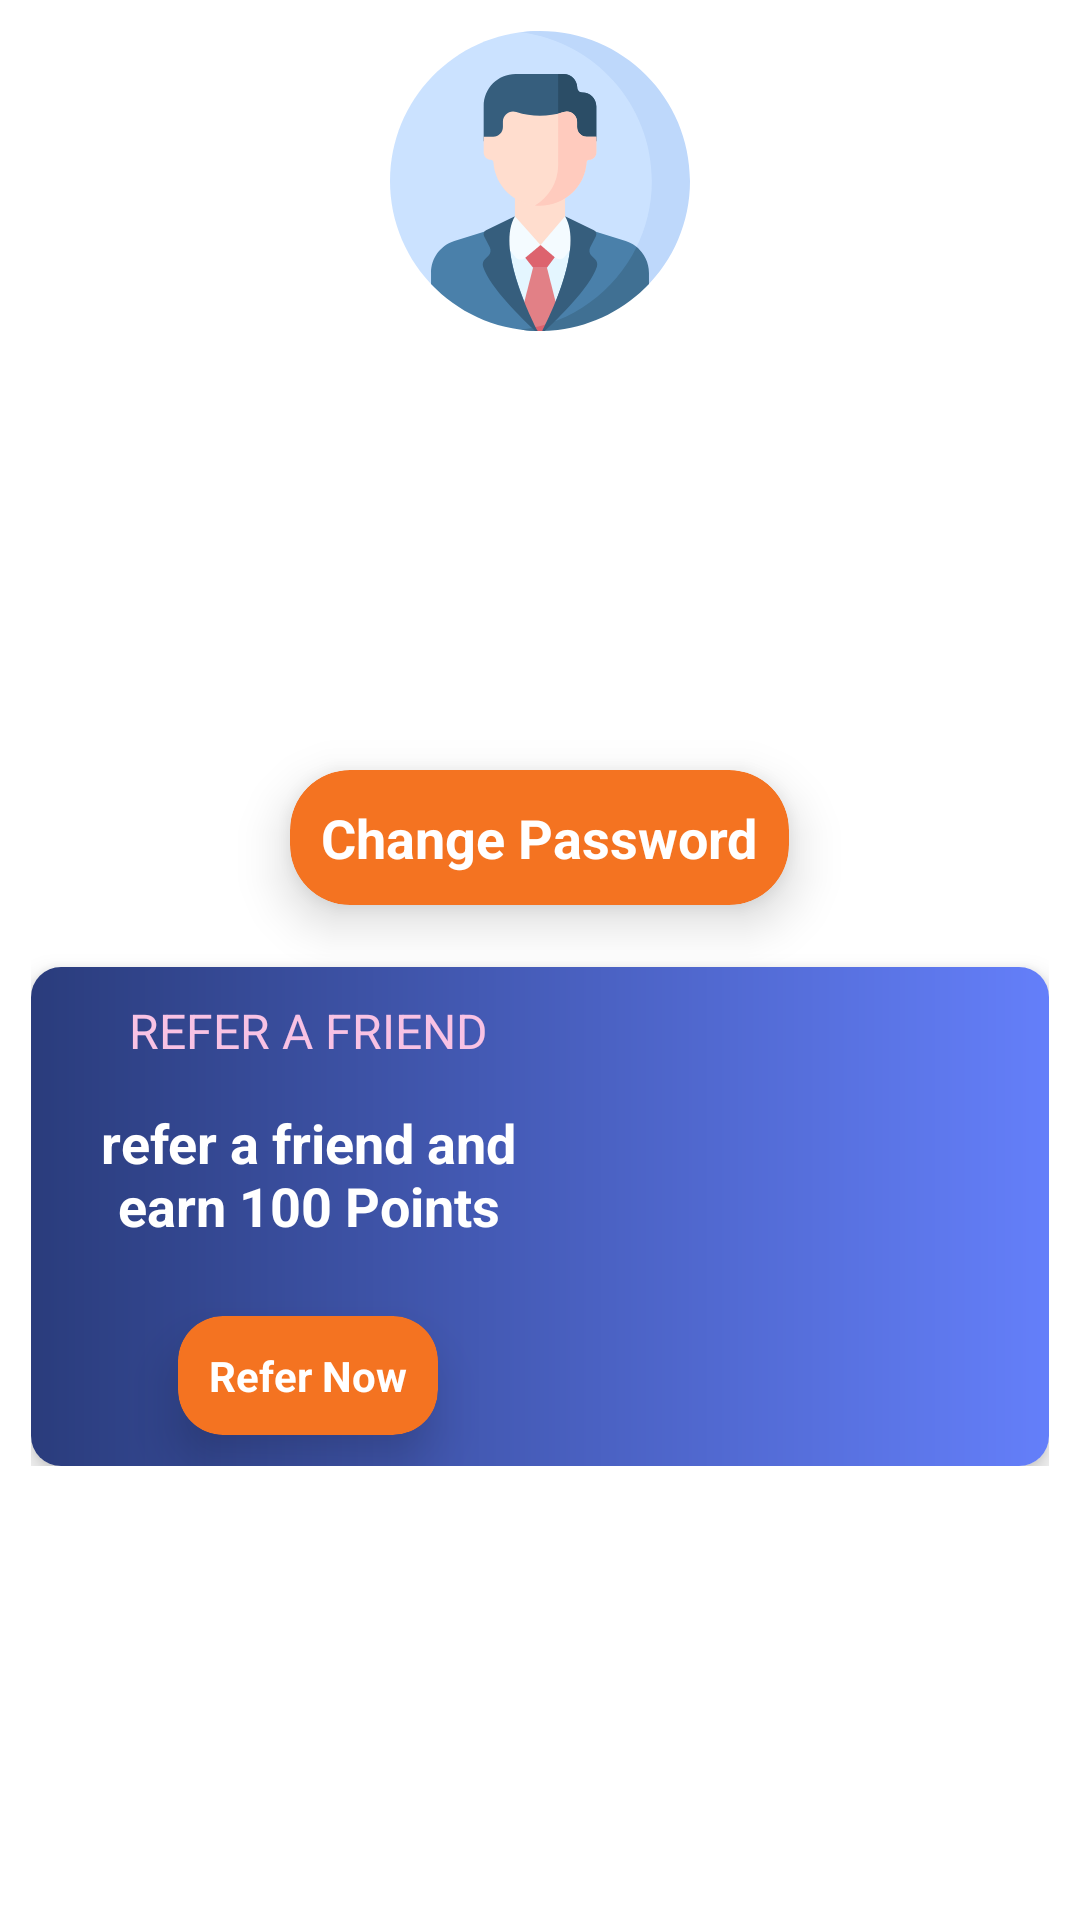

Named icons in this screenshot (1080x1920) and their centers, [x,y]:
profile: [540,181]
